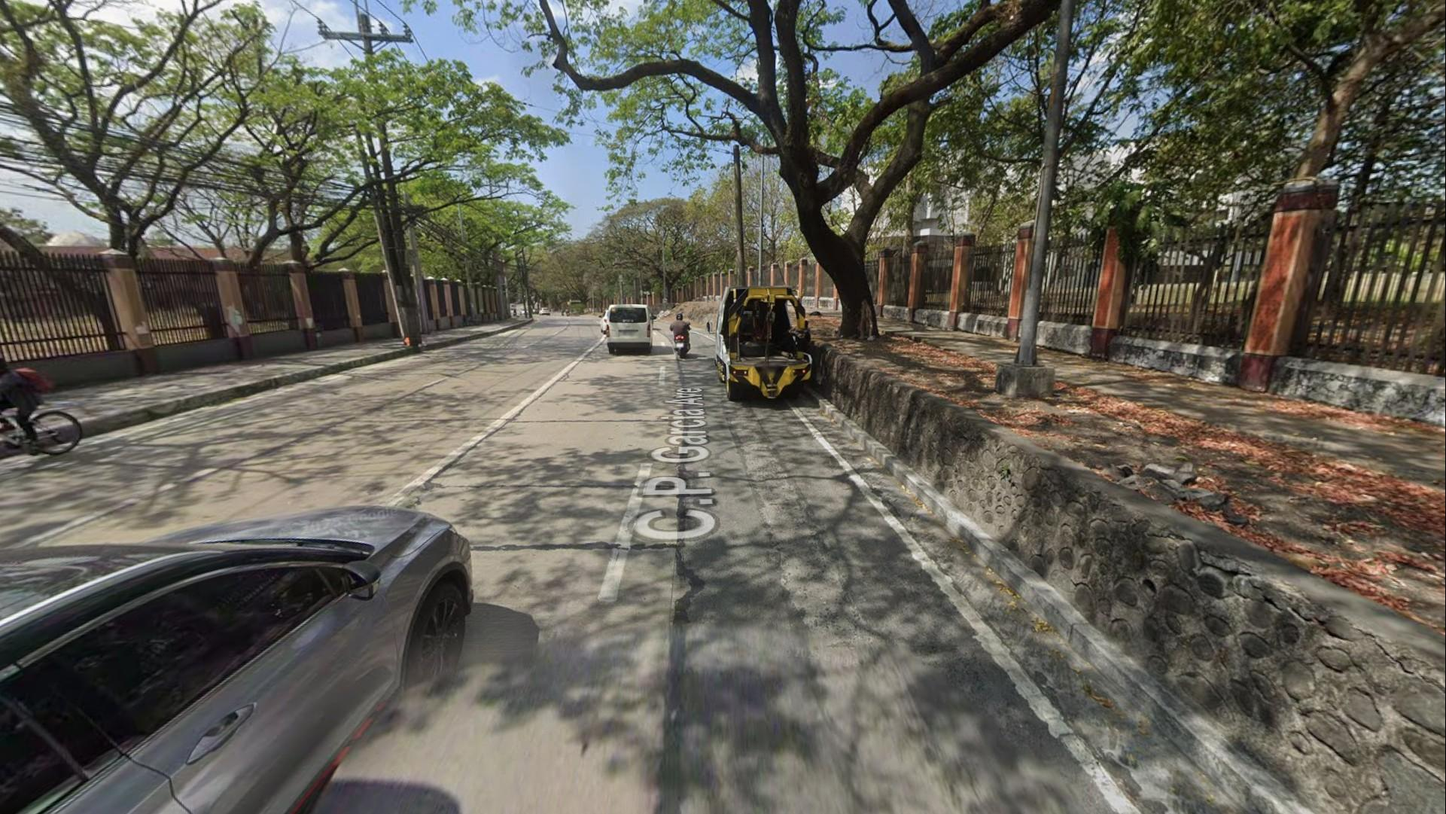cyclist: (0, 349, 85, 462)
